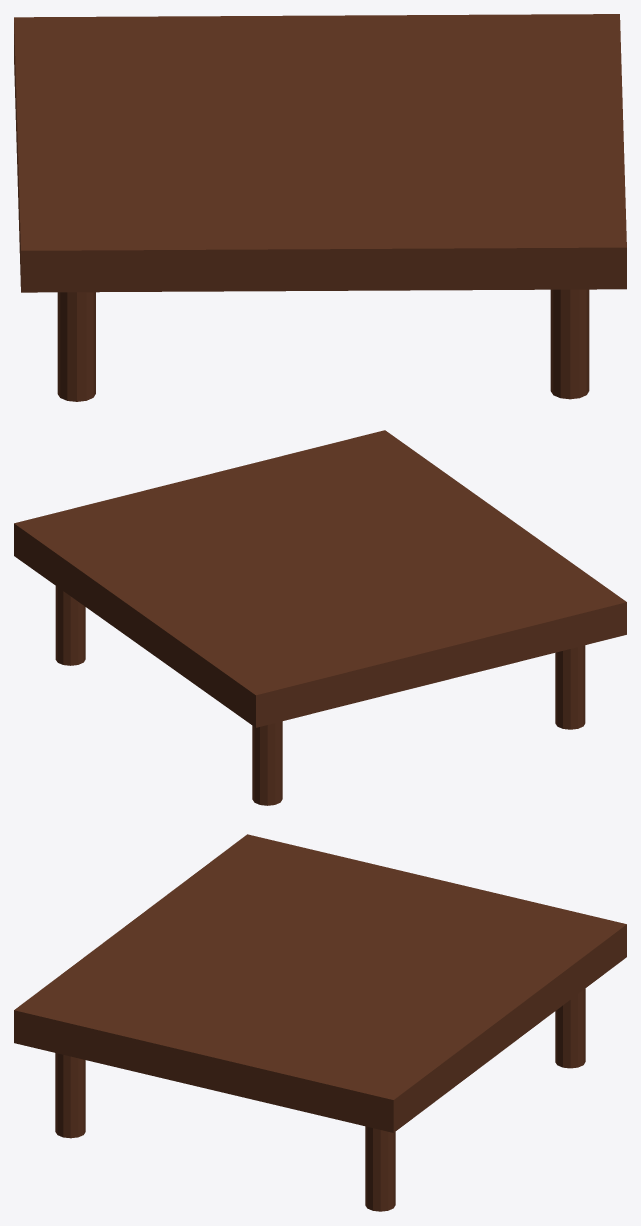
The model's file is Turiba-Island-L3.fbx.
3 views of the same model, one above another, from view 1: azimuth 30°, elevation 25°; view 2: azimuth 150°, elevation 25°; view 3: azimuth 270°, elevation 25° (orthographic). The views are drawn at different scales.
Visible parts, largest first — view 1: hasira; view 2: hasira; view 3: hasira.
Boxes of the visible parts, box(x1,y1,x2,y2) form: hasira: box(14, 14, 626, 401); hasira: box(14, 430, 626, 805); hasira: box(14, 834, 626, 1211).
Size of the model in its own units: 922 by 210 by 898.
